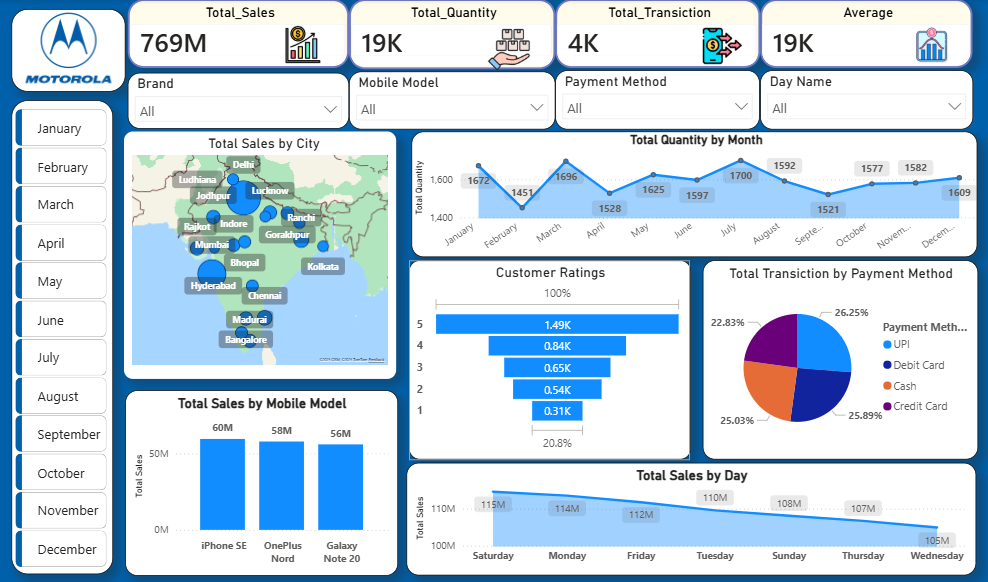

This screenshot's page, from the dashboard's own definition file:
{"tool":"powerbi","page":{"name":"Page 1","canvas":[1280,720],"ordinal":0},"visuals":[{"type":"shape","box":[15,11.7,140,101.7],"z":0},{"type":"image","box":[8.3,8.3,155,105],"z":1000},{"type":"shape","box":[15.1,124.8,124.8,582.5],"z":2000},{"type":"advancedSlicerVisual","fields":{"Values":["Sales_data.Date.Variation.Date Hierarchy.Month"]},"box":[15.1,130.5,122.9,576.8],"z":3000},{"type":"cardVisual","title":"Total_Sales","fields":{"Data":["Sales_data.Total Sales"]},"box":[158.2,0,271.8,84.5],"z":4000},{"type":"cardVisual","title":"Total_Quantity","fields":{"Data":["Sales_data.Total Quantity"]},"box":[430,0,253.4,86],"z":5000},{"type":"cardVisual","title":"Total_Transiction","fields":{"Data":["Sales_data.Total Transiction"]},"box":[683.5,0,251.9,84.5],"z":6000},{"type":"cardVisual","title":"Average","fields":{"Data":["Sales_data.Total Quantity"]},"box":[935.3,0,261.1,84.5],"z":7000},{"type":"image","box":[350,28.3,46.7,56.7],"z":8000},{"type":"image","box":[600.5,33.8,52.2,56.8],"z":9000},{"type":"image","box":[865,28.3,48.3,60],"z":10000},{"type":"image","box":[1125,23.3,45,66.7],"z":11000},{"type":"azureMap","fields":{"Category":["Sales_data.City"],"Size":["Sales_data.Total Sales"]},"box":[154.1,162.2,334.6,304.2],"z":12000},{"type":"lineChart","fields":{"Y":["Sales_data.Total Quantity"],"Category":["Sales_data.Date.Variation.Date Hierarchy.Month","Sales_data.Date.Variation.Date Hierarchy.Day"]},"box":[507,162.2,695.6,154.1],"z":13000},{"type":"clusteredColumnChart","fields":{"Category":["Sales_data.Mobile Model"],"Y":["Sales_data.Total Sales"]},"box":[155,480,335,228.3],"z":14000},{"type":"pieChart","fields":{"Category":["Sales_data.Payment Method"],"Y":["Sales_data.Total Transiction"]},"box":[865,321.7,338.3,245],"z":15000},{"type":"funnel","title":"Customer Ratings","fields":{"Category":["Sales_data.Customer Ratings"],"Y":["CountNonNull(Sales_data.Customer Ratings)"]},"box":[503.3,321.7,346.7,245],"z":16000},{"type":"areaChart","title":"Total Sales by Day","fields":{"Category":["Sales_data.Day Name"],"Y":["Sales_data.Total Sales"]},"box":[500,570,700,138.3],"z":17000},{"type":"slicer","fields":{"Values":["Sales_data.Brand"]},"box":[158.2,91.3,271.7,68.9],"z":17001},{"type":"slicer","fields":{"Values":["Sales_data.Day Name"]},"box":[934.9,87.2,261.6,73],"z":17002},{"type":"slicer","fields":{"Values":["Sales_data.Payment Method"]},"box":[683.4,87.2,251.5,73],"z":17003},{"type":"slicer","fields":{"Values":["Sales_data.Mobile Model"]},"box":[429.9,89.2,253.5,71],"z":17004}]}

Visuals, with their boxes in screenshot pixels (x1, y1, x2, y2):
shape: x1=12 y1=9 x2=122 y2=89
image: x1=7 y1=7 x2=129 y2=89
shape: x1=12 y1=98 x2=110 y2=558
advancedSlicerVisual - Sales_data.Date.Variation.Date Hierarchy.Month: x1=12 y1=103 x2=109 y2=558
"Total_Sales" cardVisual: x1=125 y1=0 x2=339 y2=67
"Total_Quantity" cardVisual: x1=339 y1=0 x2=539 y2=68
"Total_Transiction" cardVisual: x1=539 y1=0 x2=738 y2=67
"Average" cardVisual: x1=738 y1=0 x2=944 y2=67
image: x1=276 y1=22 x2=313 y2=67
image: x1=474 y1=27 x2=515 y2=71
image: x1=683 y1=22 x2=721 y2=70
image: x1=888 y1=18 x2=923 y2=71
azureMap - Sales_data.City x Sales_data.Total Sales: x1=122 y1=128 x2=386 y2=368
lineChart - Sales_data.Total Quantity x Sales_data.Date.Variation.Date Hierarchy.Month: x1=400 y1=128 x2=949 y2=250
clusteredColumnChart - Sales_data.Mobile Model x Sales_data.Total Sales: x1=122 y1=379 x2=387 y2=559
pieChart - Sales_data.Payment Method x Sales_data.Total Transiction: x1=683 y1=254 x2=950 y2=447
"Customer Ratings" funnel: x1=397 y1=254 x2=671 y2=447
"Total Sales by Day" areaChart: x1=395 y1=450 x2=947 y2=559
slicer - Sales_data.Brand: x1=125 y1=72 x2=339 y2=126
slicer - Sales_data.Day Name: x1=738 y1=69 x2=944 y2=126
slicer - Sales_data.Payment Method: x1=539 y1=69 x2=738 y2=126
slicer - Sales_data.Mobile Model: x1=339 y1=70 x2=539 y2=126
